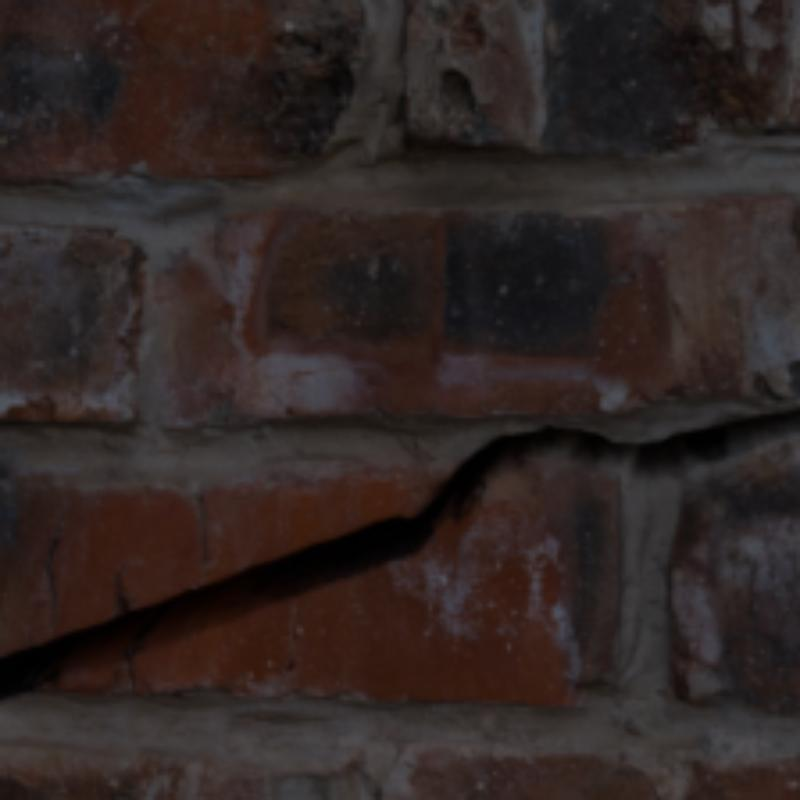crack: (0, 407, 796, 700)
